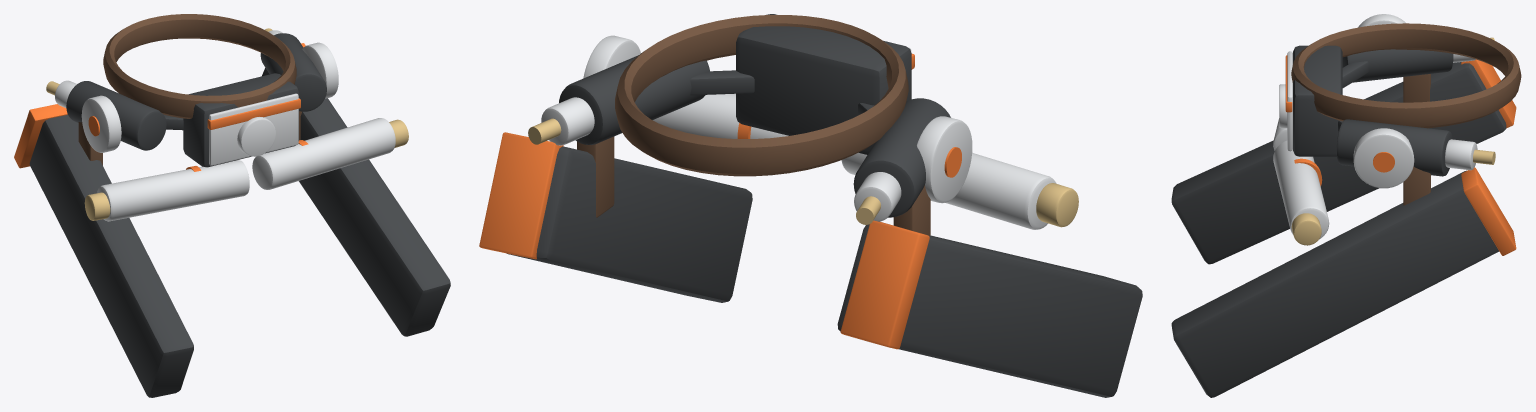
File: SM_GrappleGear.fbx
The picture shows the model from 3 angles, left to right: view 1: azimuth 30°, elevation 25°; view 2: azimuth 150°, elevation 25°; view 3: azimuth 270°, elevation 25°; orthographic projection. The views are drawn at different scales.
Parts seen in each view (by area): view 1: SM_GrappleGear; view 2: SM_GrappleGear; view 3: SM_GrappleGear.
Part boxes in pixels (box(x1,y1,x2,y2)): SM_GrappleGear: box(14, 14, 450, 397); SM_GrappleGear: box(479, 14, 1142, 397); SM_GrappleGear: box(1171, 14, 1521, 397).
Size of the model in its own units: 0.7094 by 0.5234 by 0.6345.
